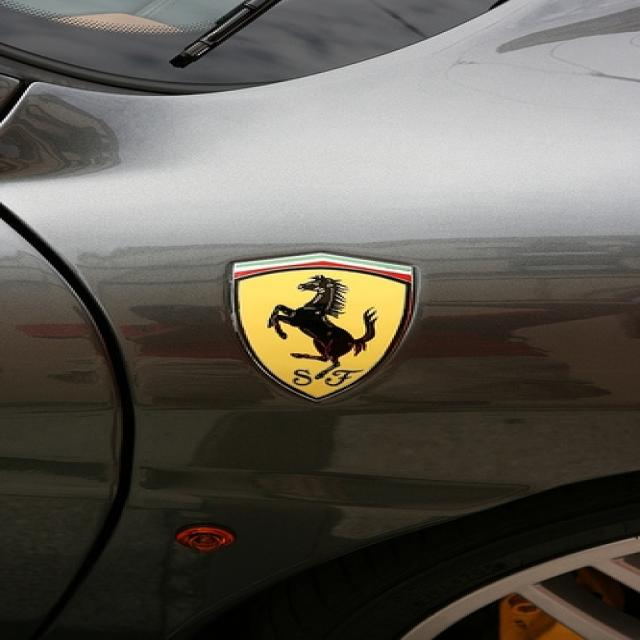ferrari: (228, 250, 422, 405)
